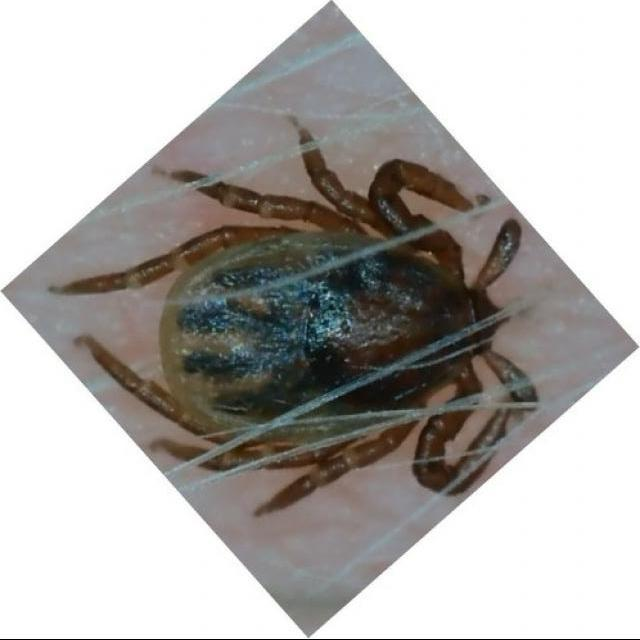Ixodes Ricinus-F: (48, 150, 538, 517)
